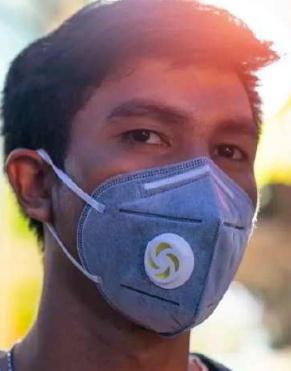OK: (64, 79, 260, 337)
